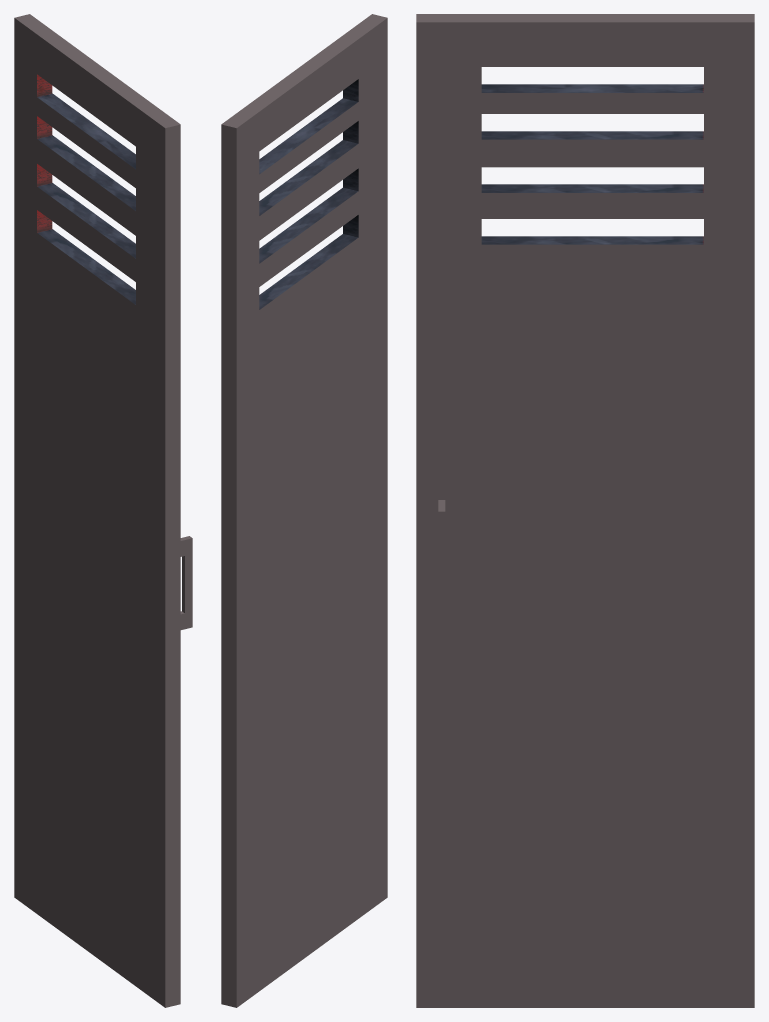
Rendered from CupboardDoor_SM_grill.fbx.
3 views of the same model, side by side, from view 1: azimuth 30°, elevation 25°; view 2: azimuth 150°, elevation 25°; view 3: azimuth 270°, elevation 25° (orthographic). The views are drawn at different scales.
Parts seen in each view (by area): view 1: Door; view 2: Door; view 3: Door.
Part boxes in pixels (box(x1,y1,x2,y2)): Door: box(14, 14, 192, 1007); Door: box(221, 14, 387, 1007); Door: box(416, 14, 754, 1007).
Bounding box in the file's own units: 10.11 × 229 × 71.09.
